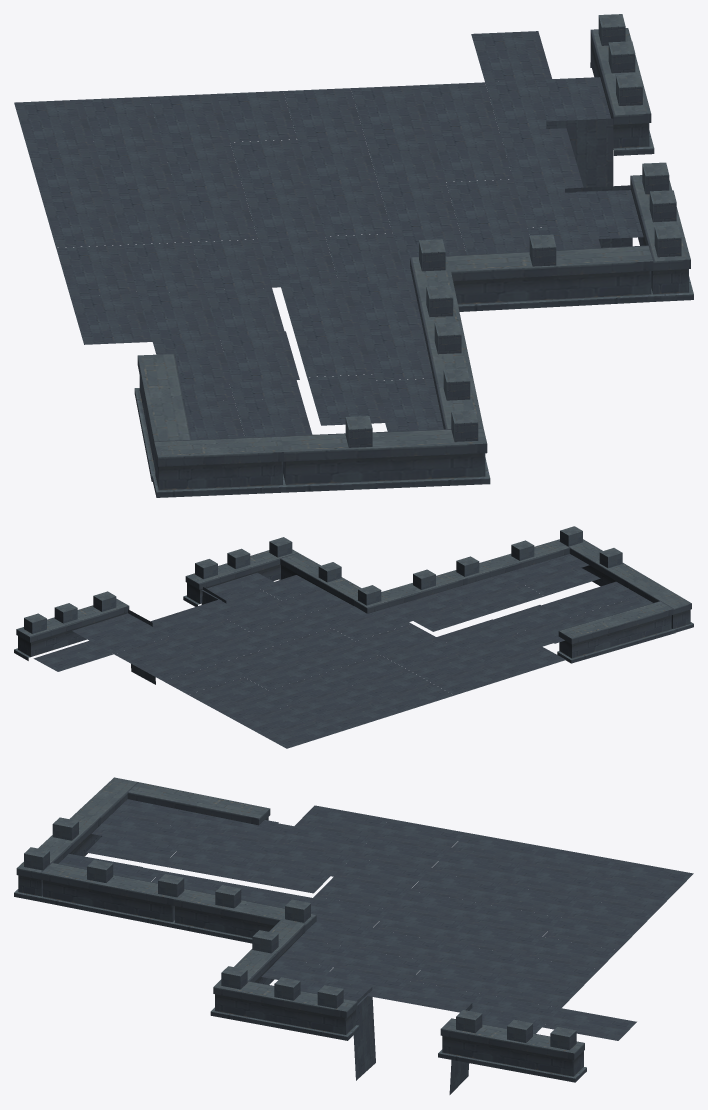
The model's file is Area_08_4.fbx.
3 renders of one model, top to bottom at view 1: azimuth 30°, elevation 25°; view 2: azimuth 150°, elevation 25°; view 3: azimuth 270°, elevation 25°, orthographic. The views are drawn at different scales.
Parts seen in each view (by area): view 1: Area_08_4; view 2: Area_08_4; view 3: Area_08_4.
Boxes of the visible parts, x1,y1,x2,y2 form: Area_08_4: (14,14,693,497); Area_08_4: (14,526,693,748); Area_08_4: (14,777,693,1094).
Size of the model in its own units: 4225 by 658 by 4368.
